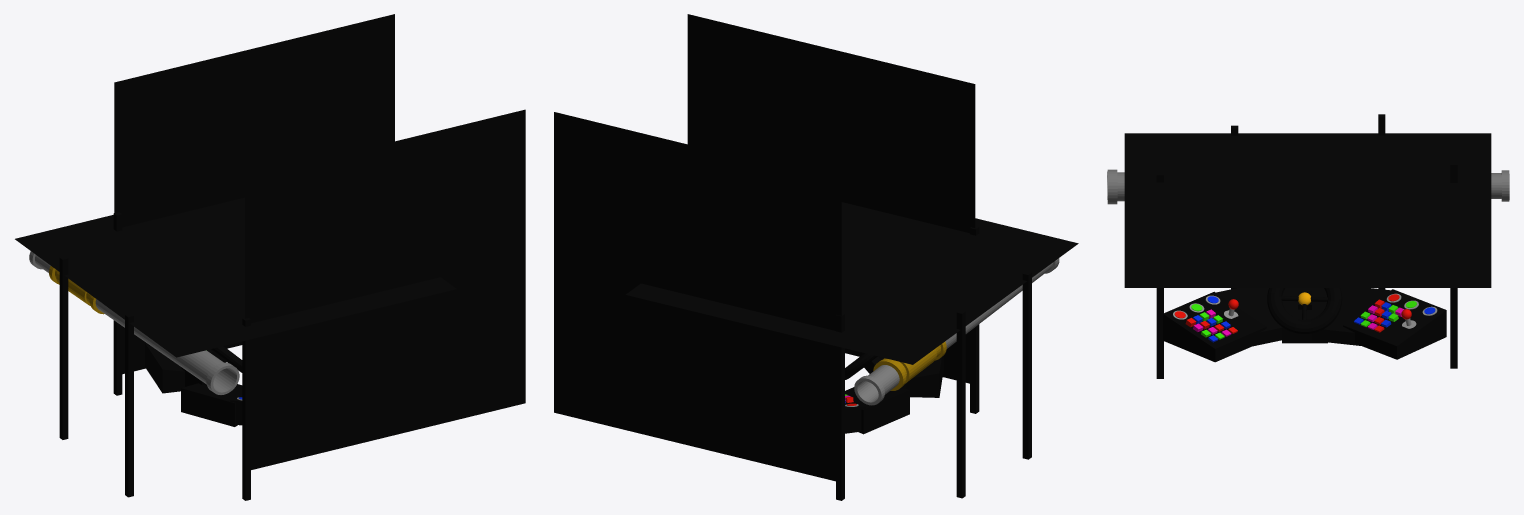
The model's file is cockpit.fbx.
The picture shows the model from 3 angles, left to right: view 1: azimuth 30°, elevation 25°; view 2: azimuth 150°, elevation 25°; view 3: azimuth 270°, elevation 25°; orthographic projection. The views are drawn at different scales.
Parts seen in each view (by area): view 1: Plane.001, Plane.002, Plane, Cube.006, Cylinder.002, Cube.002, Cube, Torus; view 2: Plane.002, Plane.001, Plane, Cube.006, Cylinder.002, Cube, Cube.002, Cube.000; view 3: Plane, Cube.001, Cube.000, Torus, Cube.006, Cube, Cube.002, Cylinder.002.
Part boxes in pixels (bbox=[...]): Plane.001: bbox=[245, 109, 525, 469]; Plane.002: bbox=[114, 14, 394, 374]; Plane: bbox=[15, 197, 456, 357]; Cube.006: bbox=[59, 212, 250, 500]; Cylinder.002: bbox=[29, 251, 239, 394]; Cube.002: bbox=[181, 383, 242, 426]; Cube: bbox=[145, 343, 184, 393]; Torus: bbox=[181, 346, 242, 386]; Plane.002: bbox=[554, 112, 841, 481]; Plane.001: bbox=[687, 14, 975, 383]; Plane: bbox=[626, 202, 1078, 364]; Cube.006: bbox=[836, 226, 1031, 500]; Cylinder.002: bbox=[854, 258, 1059, 405]; Cube: bbox=[845, 387, 909, 434]; Cube.002: bbox=[906, 356, 943, 397]; Cube.000: bbox=[845, 392, 865, 433]; Plane: bbox=[1124, 133, 1491, 287]; Cube.001: bbox=[1163, 291, 1266, 362]; Cube.000: bbox=[1343, 289, 1446, 359]; Torus: bbox=[1267, 288, 1342, 343]; Cube.006: bbox=[1156, 114, 1457, 378]; Cube: bbox=[1312, 288, 1390, 345]; Cube.002: bbox=[1216, 288, 1281, 346]; Cylinder.002: bbox=[1107, 169, 1509, 204].
Bounding box in the file's own units: 1308 × 1093 × 1098.
